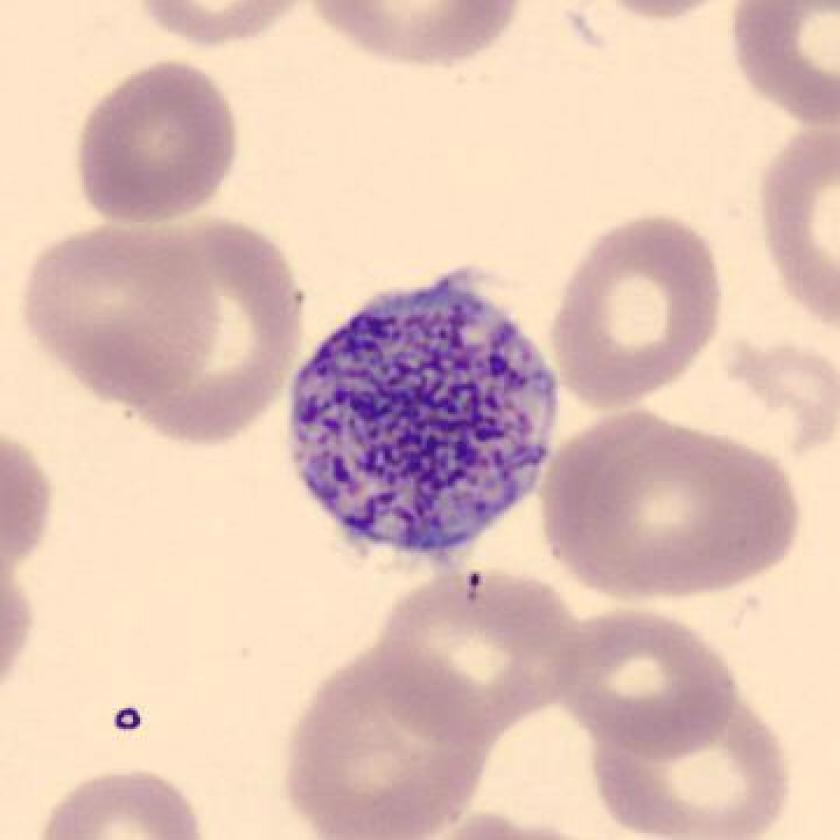platelets: (277, 265, 571, 577)
